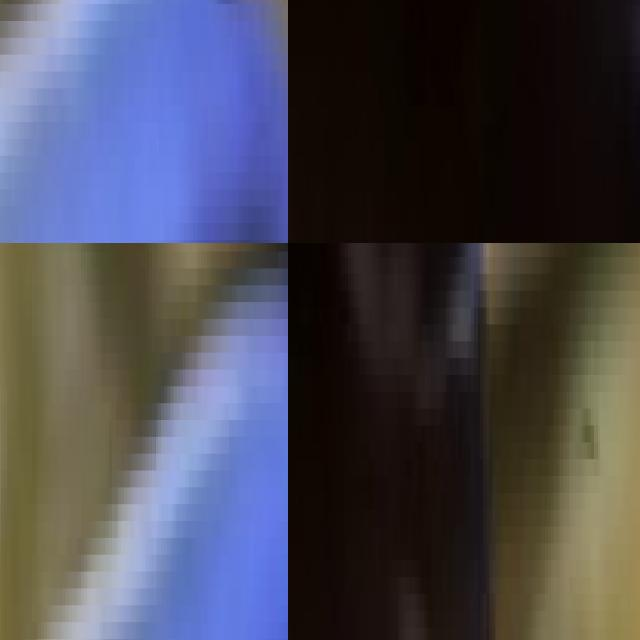fish: (0, 243, 288, 640), (288, 0, 640, 243), (0, 0, 288, 243)
